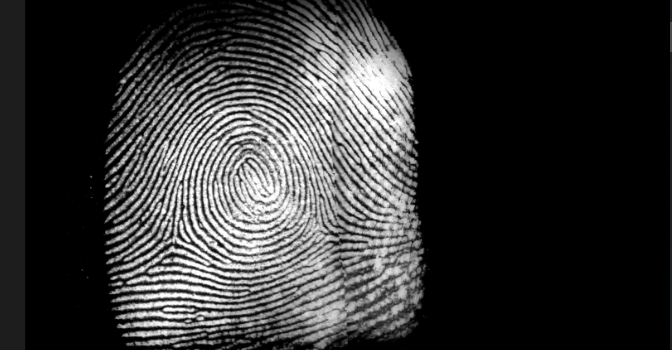nucelo: (234, 156, 271, 199)
verticilo: (156, 222, 192, 254), (328, 217, 356, 241)
